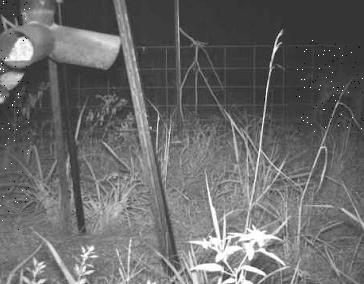Deer: (0, 1, 30, 231), (296, 40, 364, 132)
